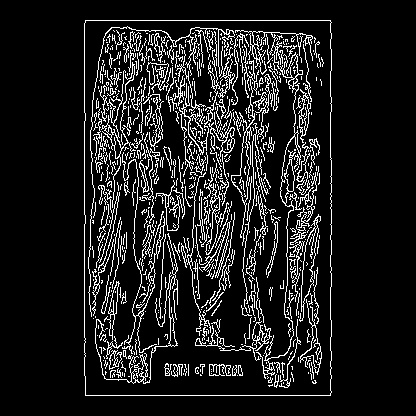buddha-standing: (72, 175, 209, 289)
